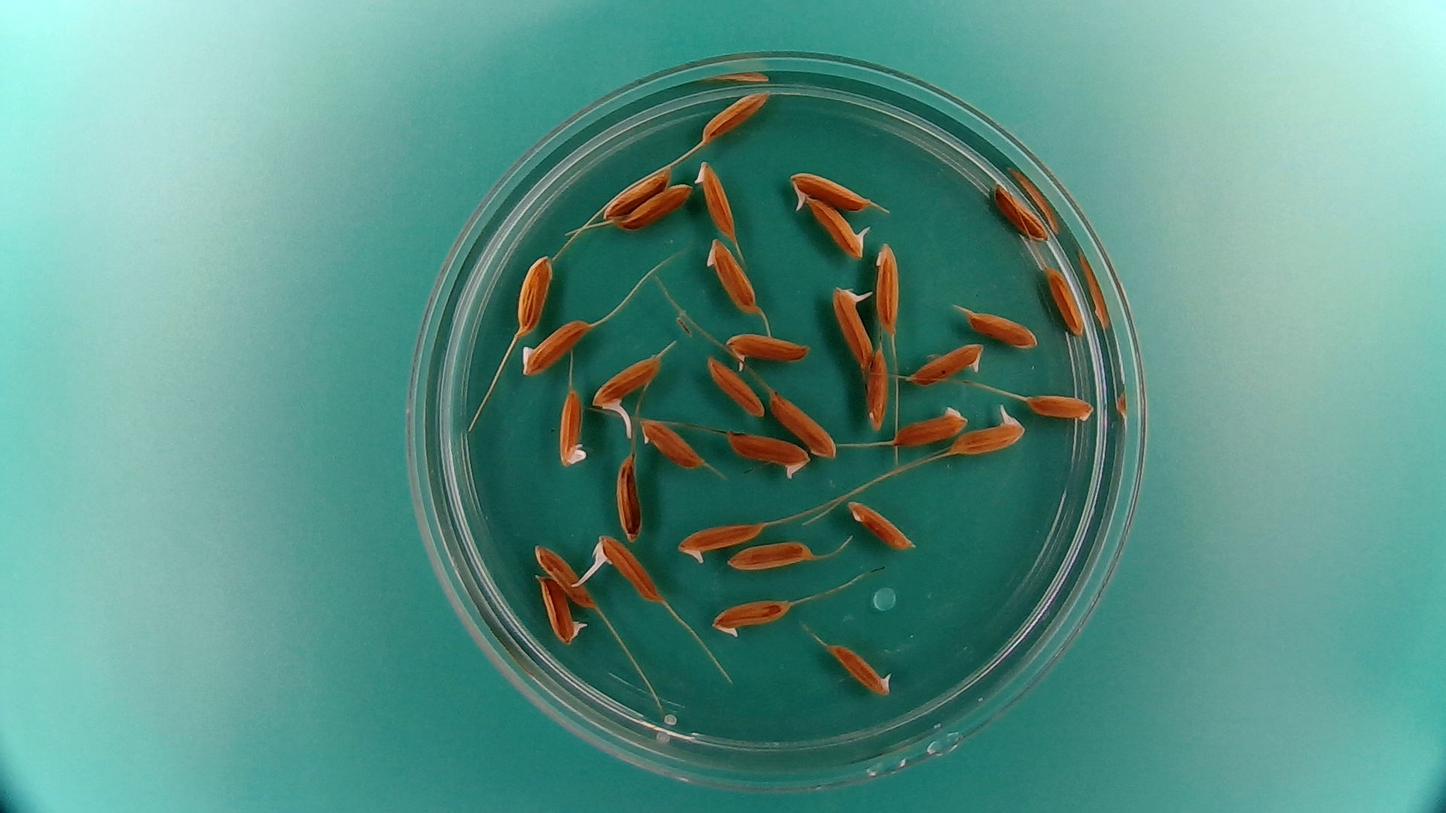no: (767, 386, 841, 458), (518, 316, 595, 379), (703, 235, 762, 315), (532, 540, 599, 608), (690, 156, 741, 242), (697, 87, 772, 145), (703, 352, 767, 419), (845, 495, 917, 553), (906, 337, 987, 388), (618, 181, 694, 235), (601, 168, 673, 224), (990, 179, 1054, 242), (723, 326, 813, 370), (637, 415, 706, 470), (961, 305, 1041, 352), (891, 400, 970, 447), (708, 595, 794, 638), (1040, 263, 1088, 340), (725, 537, 816, 575), (513, 251, 554, 333), (872, 240, 904, 340), (1023, 389, 1097, 428), (613, 451, 644, 542), (556, 388, 588, 470), (862, 347, 892, 434)
yes: (596, 534, 664, 605), (722, 426, 811, 480), (674, 517, 764, 565), (830, 282, 876, 370), (809, 197, 871, 259), (590, 358, 662, 410), (535, 575, 585, 647), (786, 172, 875, 212), (828, 644, 895, 697), (947, 418, 1023, 459)
